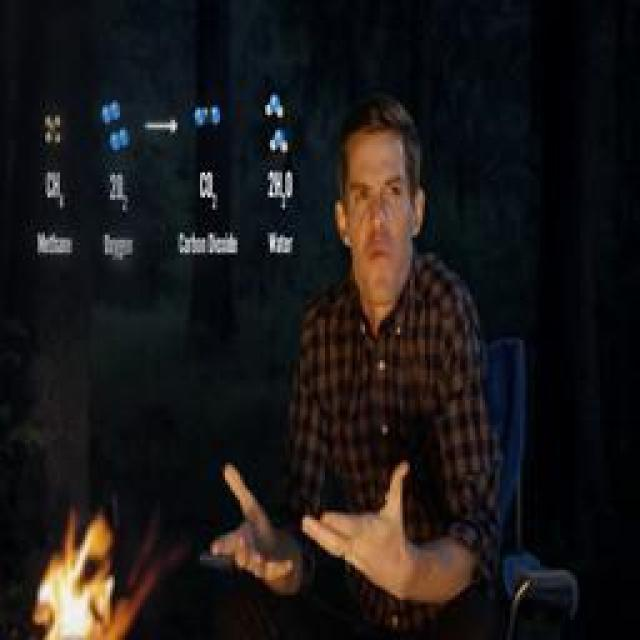Fire: (34, 512, 154, 640)
